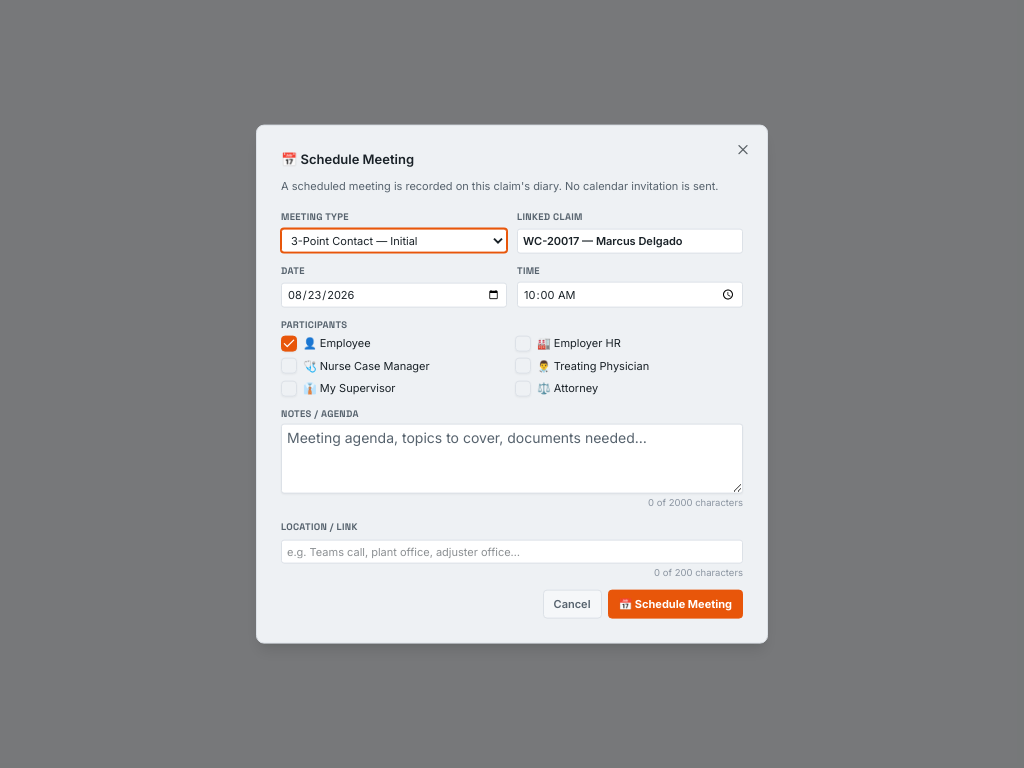
it: the server's own refusal lands at the same place the client's does
This screenshot has width=1024, height=768.
Click the button with test id "scheduler-save": [675, 604] box [608,590,743,618]
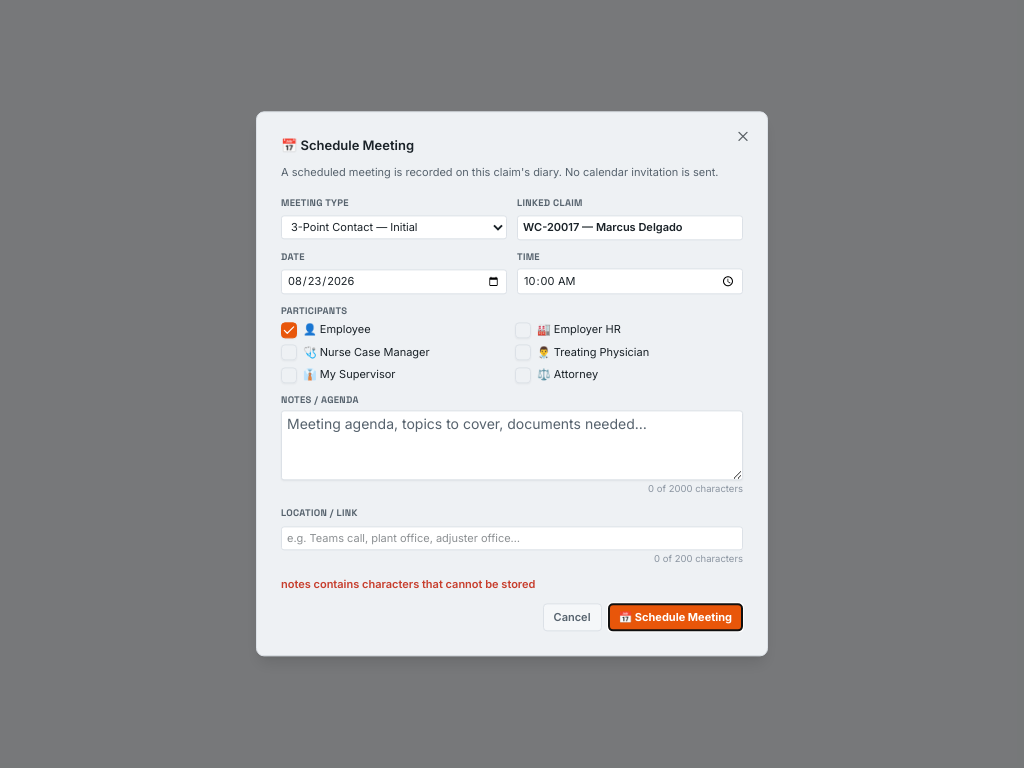
Check: the message with test id "scheduler-error" reads "notes contains characters that cannot be stored", box [281,578,535,592]
